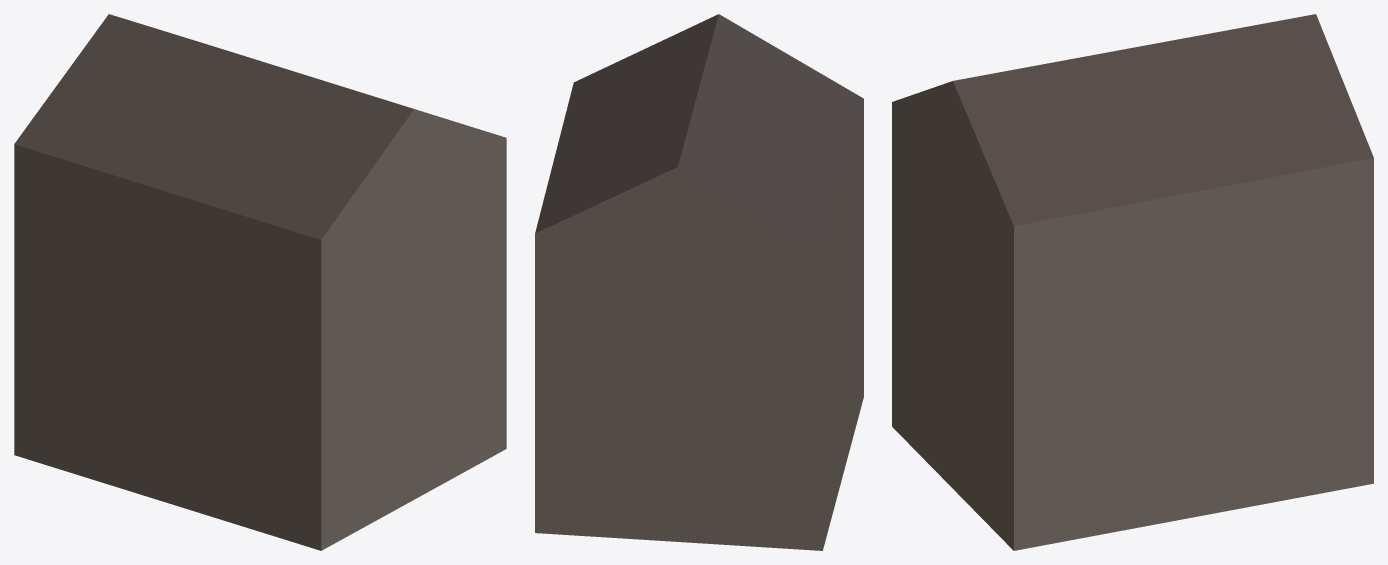
3 views of the same model, side by side, from view 1: azimuth 30°, elevation 25°; view 2: azimuth 150°, elevation 25°; view 3: azimuth 270°, elevation 25° (orthographic). The views are drawn at different scales.
Visible parts, largest first — view 1: HP-w1198875350; view 2: HP-w1198875350; view 3: HP-w1198875350.
Part boxes in pixels (x1=…): HP-w1198875350: x1=14, y1=14, x2=506, y2=550; HP-w1198875350: x1=535, y1=14, x2=863, y2=550; HP-w1198875350: x1=892, y1=14, x2=1373, y2=550.
Size of the model in its own units: 7.59 by 7.54 by 8.07.
